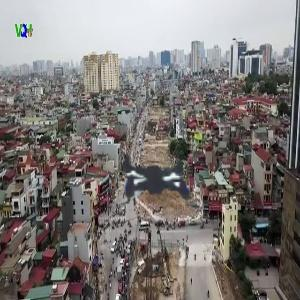drone: (67, 98, 246, 277)
